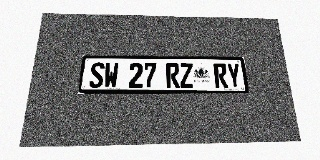2: (129, 63, 143, 88)
7: (143, 63, 157, 88)
R: (213, 63, 228, 88), (166, 63, 180, 88)
S: (89, 62, 105, 88)
W: (103, 62, 119, 88)
Y: (226, 63, 242, 88)
Z: (179, 63, 194, 88)
